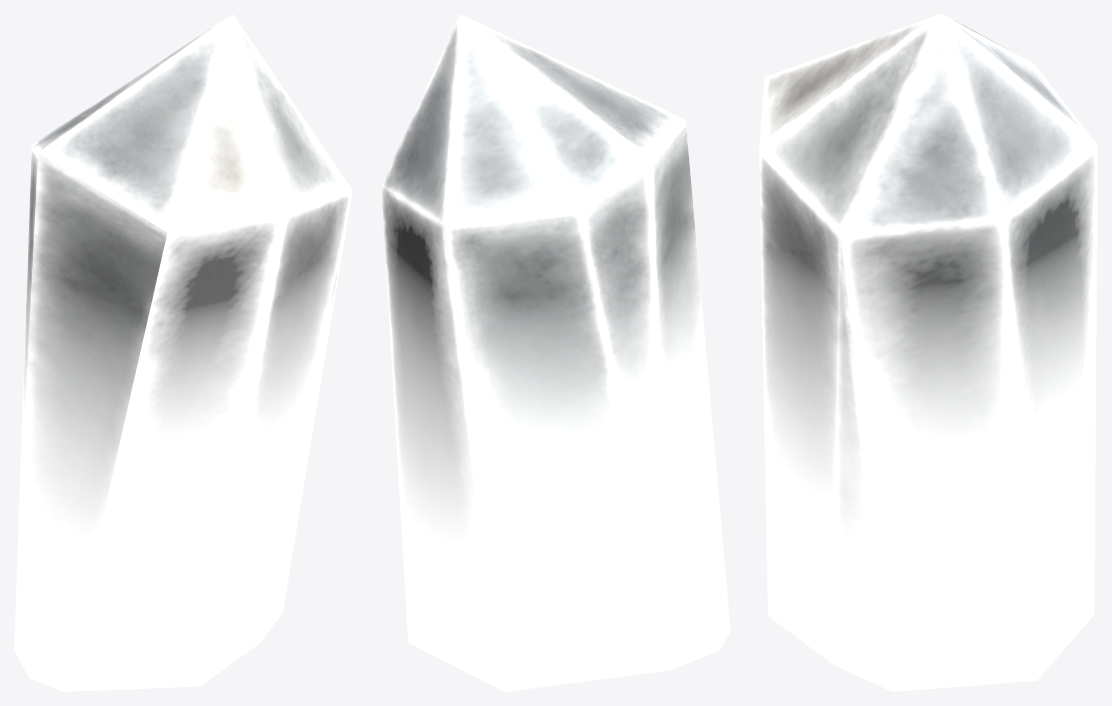
The model's file is crystal_piece_001.fbx.
3 views of the same model, side by side, from view 1: azimuth 30°, elevation 25°; view 2: azimuth 150°, elevation 25°; view 3: azimuth 270°, elevation 25° (orthographic). The views are drawn at different scales.
Visible parts, largest first — view 1: crystal_piece_001; view 2: crystal_piece_001; view 3: crystal_piece_001.
Part boxes in pixels (x1,y1,x2,y2): crystal_piece_001: (14, 14, 352, 691); crystal_piece_001: (381, 14, 730, 691); crystal_piece_001: (759, 14, 1097, 691).
Size of the model in its own units: 0.8444 by 1.56 by 0.7236.
1 material, 1 textured.
